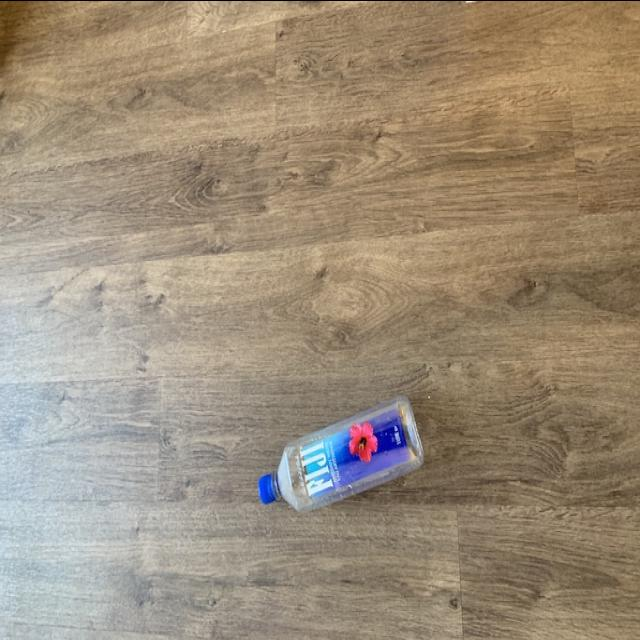litter: (260, 389, 423, 511)
